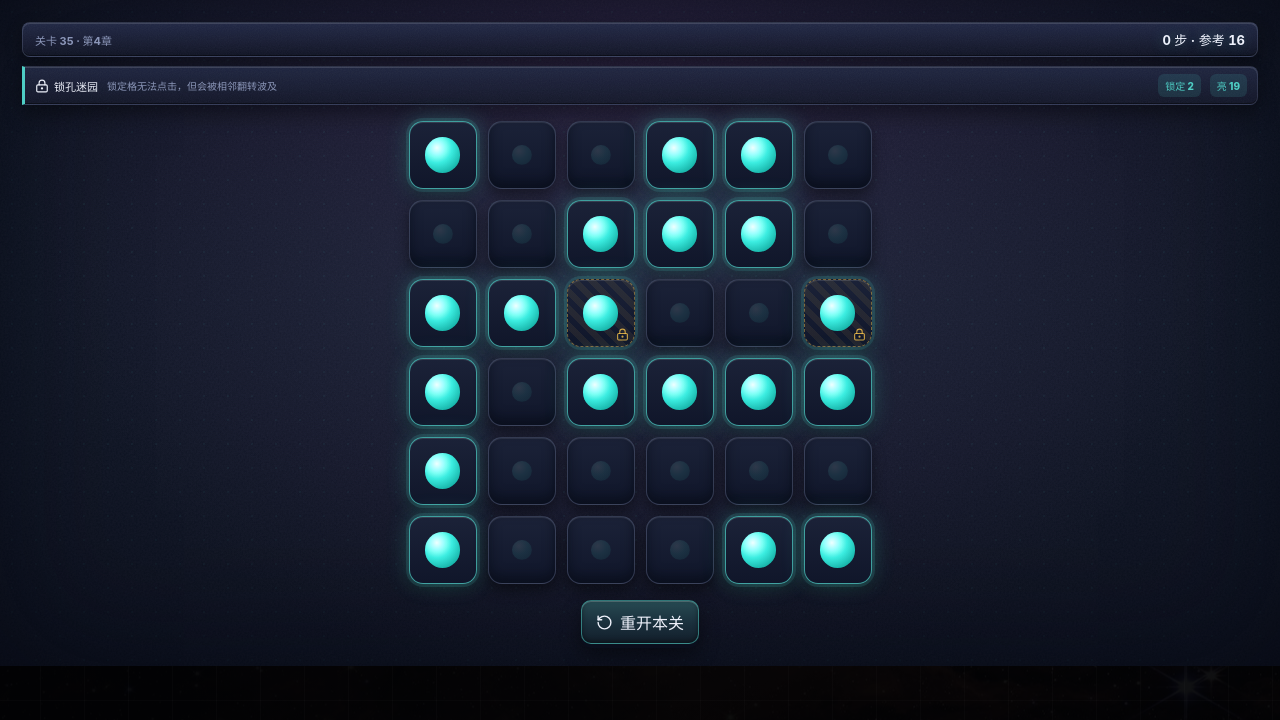
Test case: lantern press tween › skips the spring entirely and still toggles lamps when reduced motion is preferred
Click the button named "第2行第2列，灯灭" at (522, 234), box [488,200,556,268]
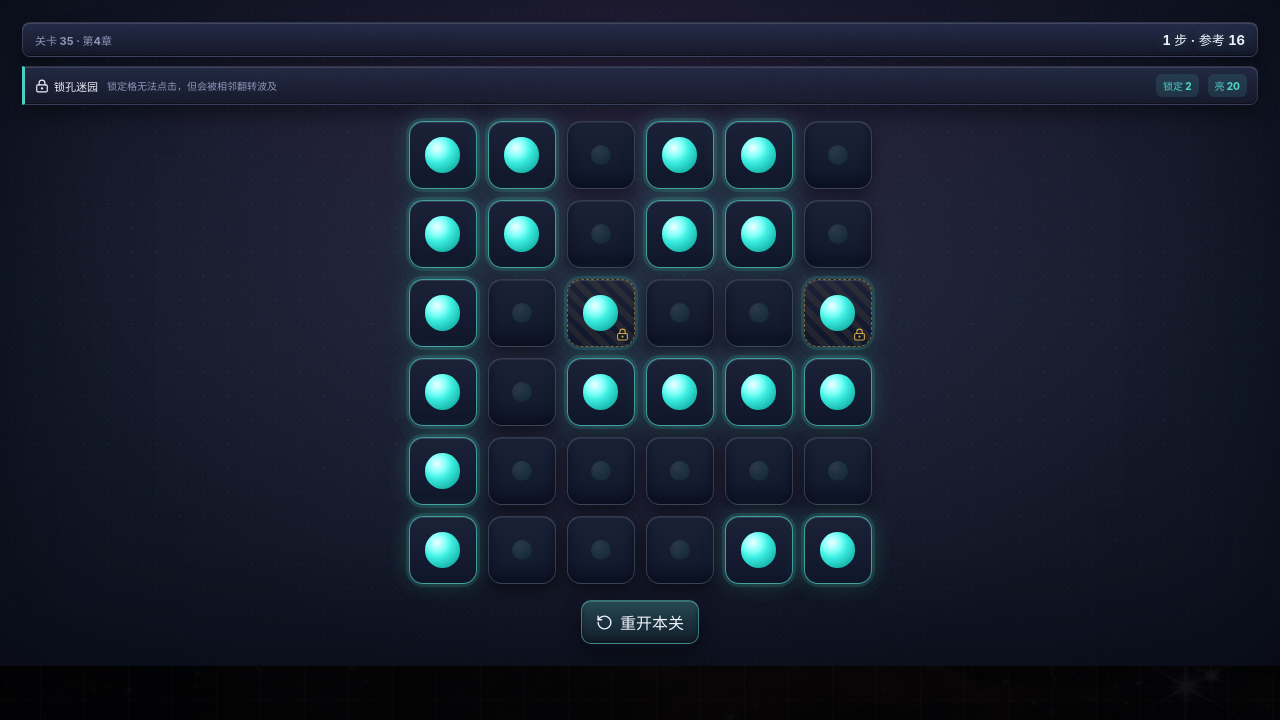
Expected: the element with class "lantern-readout" shows "1 步 · 参考 16", [22,22,1258,57]
